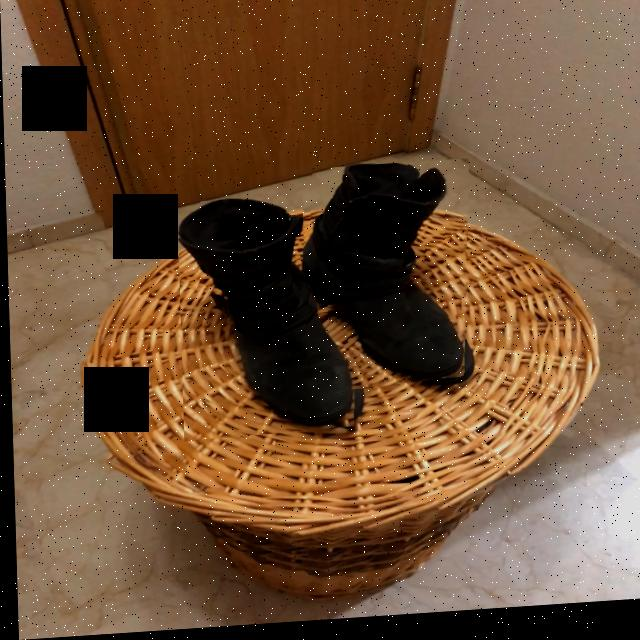shoe: (177, 202, 354, 435), (302, 169, 465, 387)
